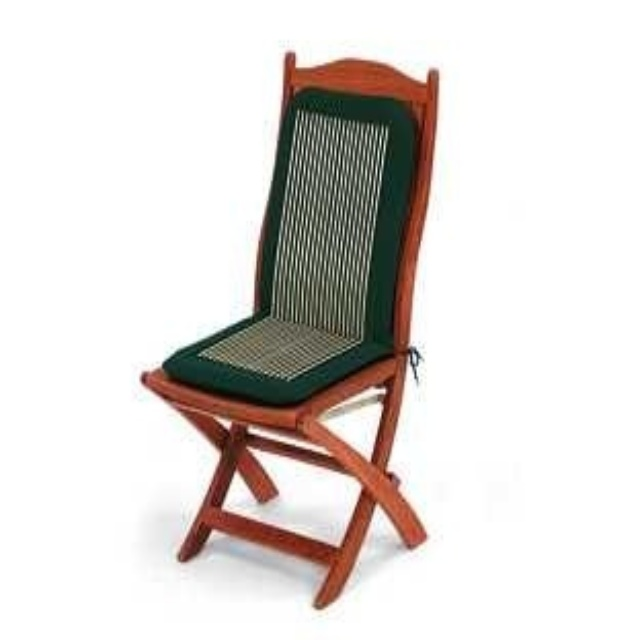obstacle: (142, 53, 437, 605)
